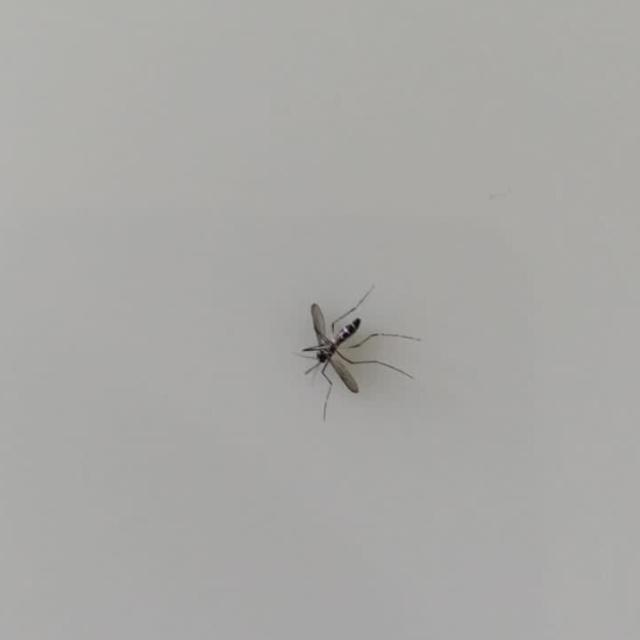albopictus: (282, 273, 420, 416)
